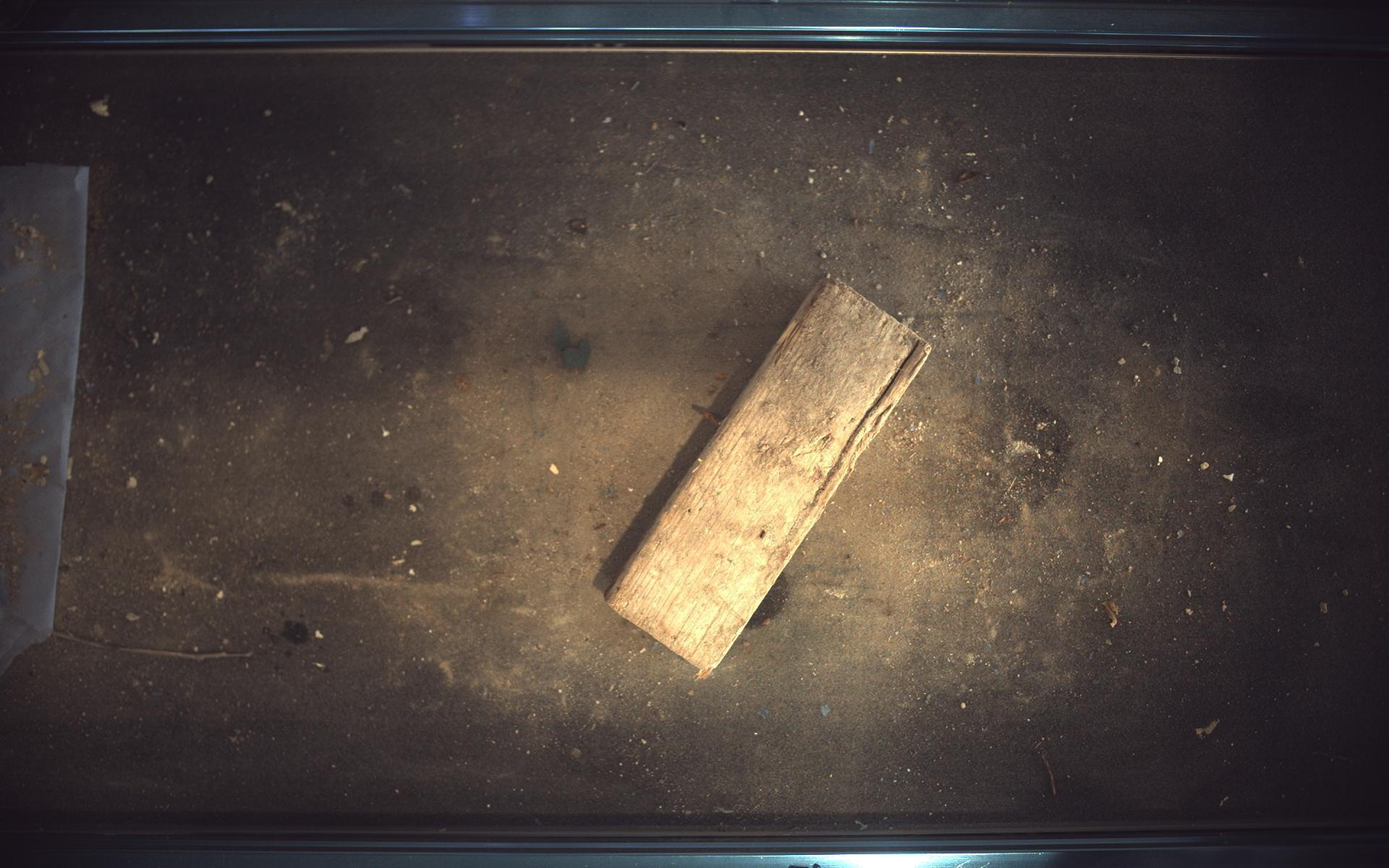wood: (608, 279, 933, 678)
